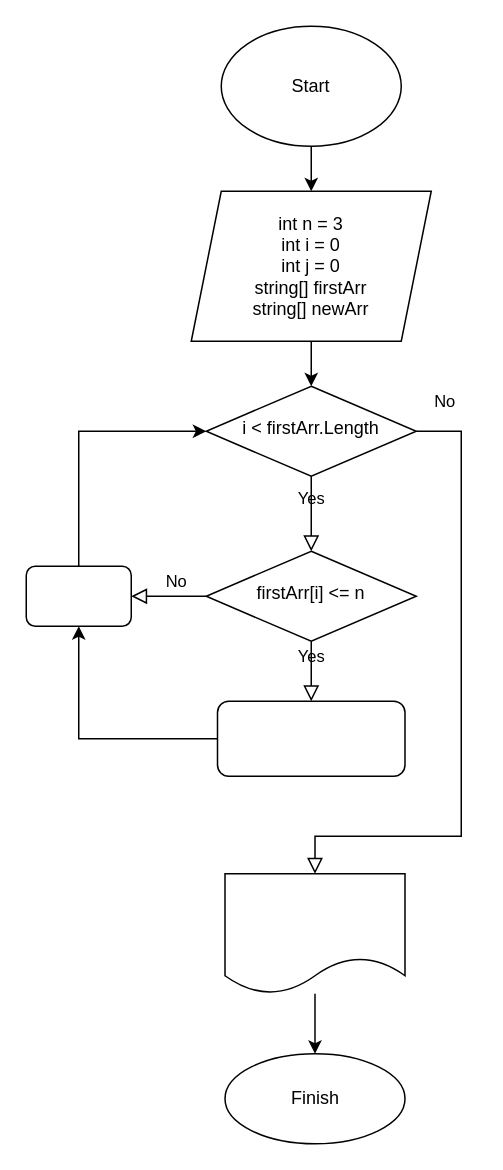
The diagram is 503 pixels wide and 1170 high, and some of its shapes have lost their labels. The centre of each missing label's shape, as x and y in pixels:
i++: (78,595)
newArr[j] = firstArr[i] j++: (310,738)
Print newArr: (314,933)
